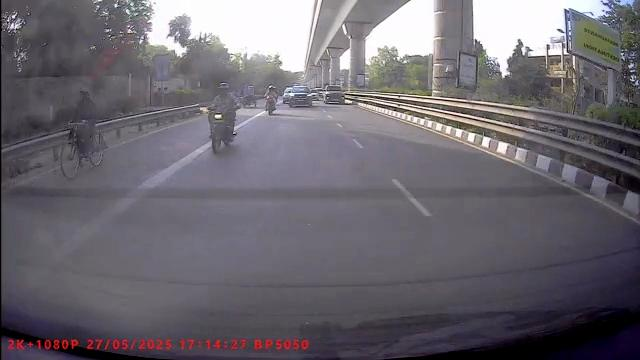motorcycle_with_helmet: (204, 81, 240, 156), (263, 83, 278, 116)
